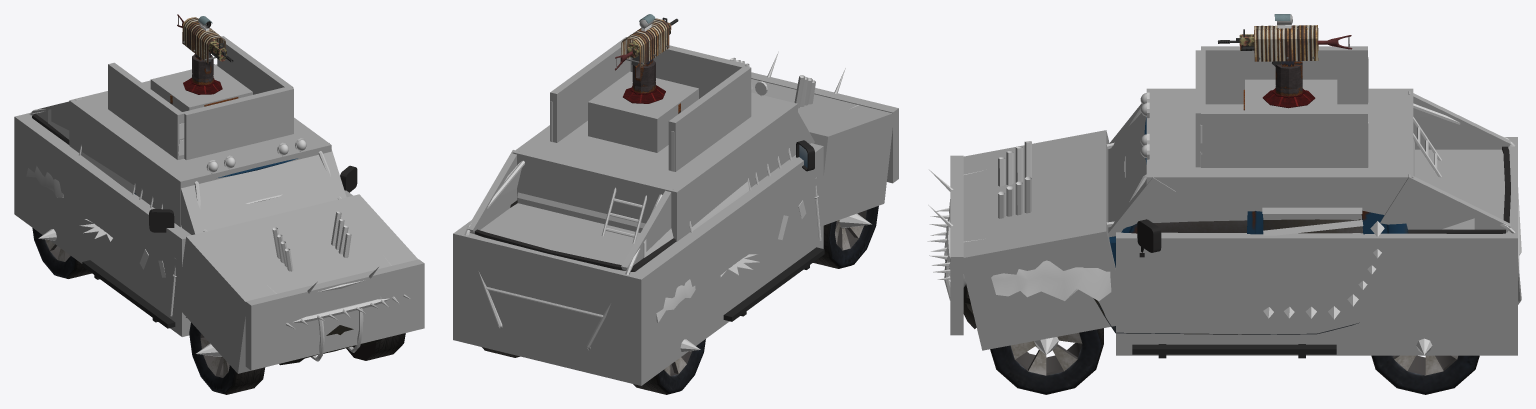
File: FrancescoBattiato_BOOM_pack_000.fbx
The picture shows the model from 3 angles, left to right: view 1: azimuth 30°, elevation 25°; view 2: azimuth 150°, elevation 25°; view 3: azimuth 270°, elevation 25°; orthographic projection. The views are drawn at different scales.
Parts seen in each view (by area): view 1: pCube68, pCube69, pCube62, pCube65, pCube64, pCube73, pCube71, CarBody, pCube74, Wheel_FR, pCube72, Gun (+8 smaller); view 2: pCube69, pCube65, pCube68, pCube74, pCube71, pCube72, CarBody, pCube73, Wheel_FR, Gun, pCube62, Wheel_RR (+8 smaller); view 3: pCube69, pCube68, pCube65, pCube72, CarBody, pCube71, Wheel_FL, pCube64, pCube66, Wheel_RL, polySurface162, Gun (+8 smaller).
Boxes of the visible parts, x1,y1,x2,y2 form: pCube68: [178, 194, 417, 373]; pCube69: [14, 112, 352, 336]; pCube62: [245, 259, 424, 370]; pCube65: [69, 64, 331, 227]; pCube64: [181, 143, 346, 234]; pCube73: [182, 87, 293, 160]; pCube71: [108, 62, 184, 159]; CarBody: [32, 113, 381, 365]; pCube74: [150, 64, 252, 111]; Wheel_FR: [189, 322, 265, 394]; pCube72: [217, 36, 293, 94]; Gun: [177, 14, 233, 64]; pCube69: [453, 143, 823, 385]; pCube65: [512, 92, 797, 241]; pCube68: [751, 79, 894, 225]; pCube74: [588, 71, 698, 152]; pCube71: [668, 66, 751, 171]; pCube72: [550, 37, 630, 142]; CarBody: [474, 140, 824, 321]; pCube73: [630, 45, 746, 98]; Wheel_FR: [813, 206, 878, 268]; Gun: [615, 14, 678, 70]; pCube62: [751, 72, 898, 183]; Wheel_RR: [633, 339, 705, 394]; pCube69: [1116, 137, 1517, 355]; pCube68: [963, 130, 1128, 350]; pCube65: [1146, 88, 1413, 222]; pCube72: [1201, 110, 1367, 167]; CarBody: [949, 117, 1510, 358]; pCube71: [1201, 46, 1367, 104]; Wheel_FL: [990, 328, 1103, 394]; pCube64: [1108, 103, 1175, 236]; pCube66: [1380, 174, 1510, 232]; Wheel_RL: [1371, 355, 1479, 394]; polySurface162: [991, 260, 1111, 300]; Gun: [1218, 14, 1352, 66].
Size of what is drawn, in the model's own units: 253 by 325 by 523.
